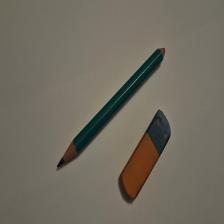eraser: (120, 110, 172, 201)
pencil: (58, 48, 166, 168)
